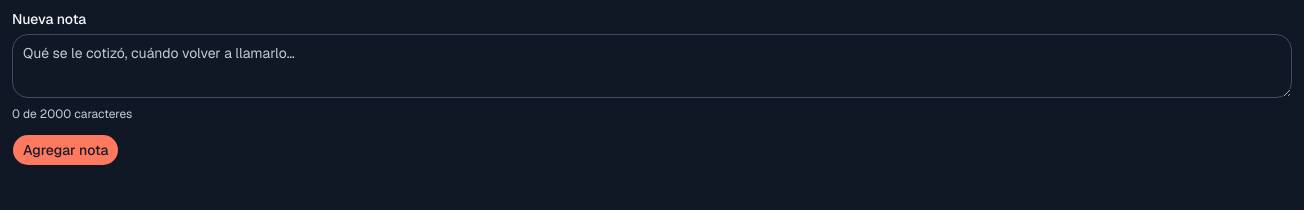
LeadNoteForm › muestra el error que devuelve la acción y conserva el texto
Type "Llamar el lunes" into the text box labelled "Nueva nota".
click(652, 66); type("Llamar el lunes")  # box [12,34,1292,98]
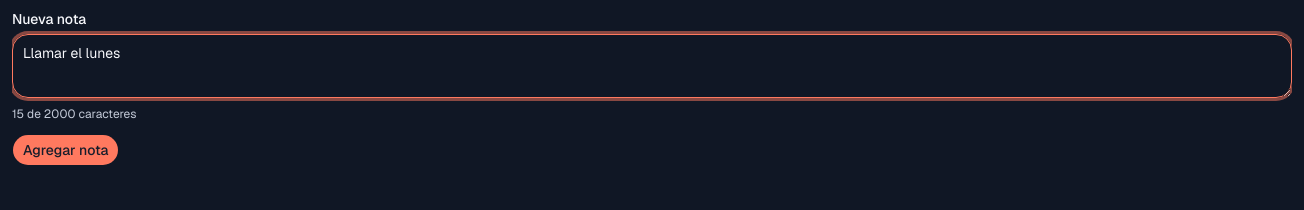
Click the button "Agregar nota".
click(66, 150)  # box [12,134,120,166]
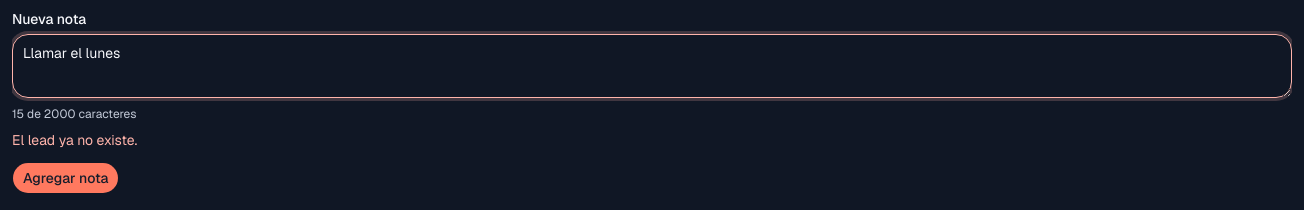
Expected: the message reads "El lead ya no existe.", [12,131,137,149]
